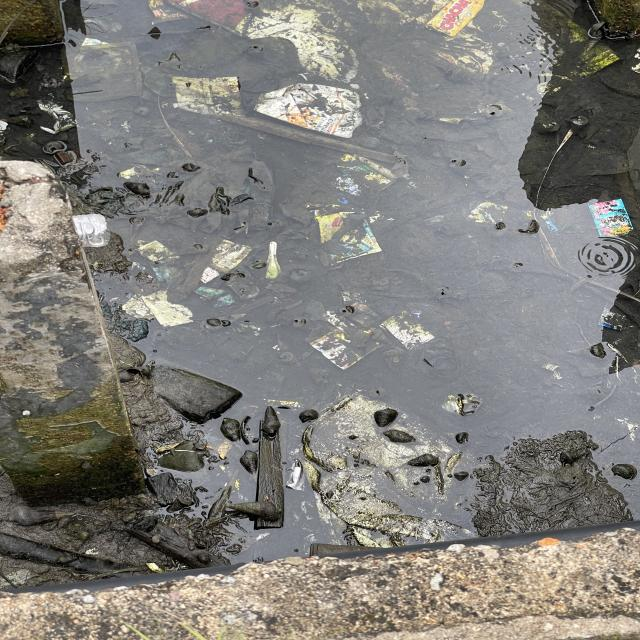Bungkus Makanan: (253, 82, 363, 140), (312, 211, 385, 265), (428, 1, 491, 39)
